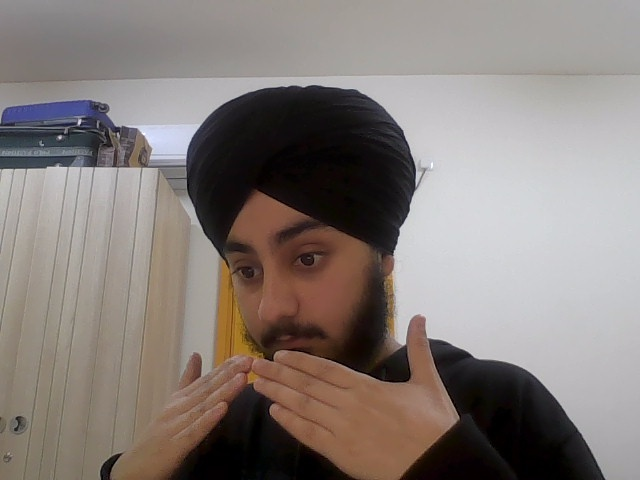Thanks: (113, 313, 462, 480)
